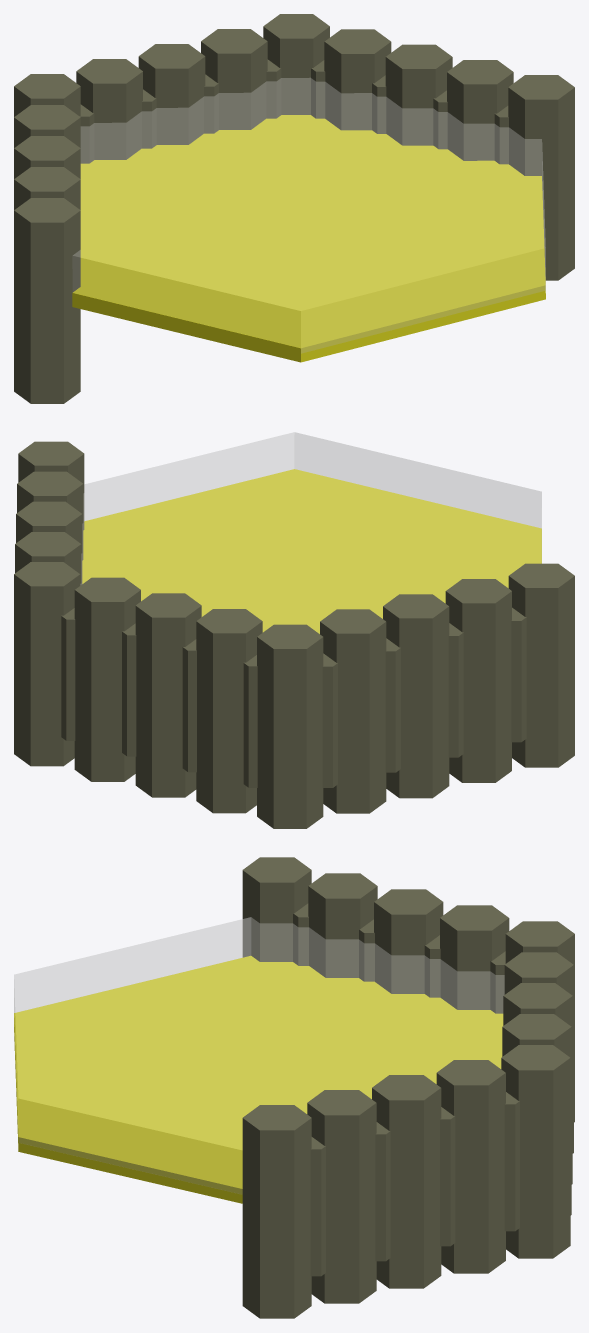
Rendered from Tatles1.fbx_Titel_Voda_3.fbx.
The picture shows the model from 3 angles, top to bottom: view 1: azimuth 30°, elevation 25°; view 2: azimuth 150°, elevation 25°; view 3: azimuth 270°, elevation 25°; orthographic projection. The views are drawn at different scales.
Visible parts, largest first — view 1: Voda.002, Dno.002, Stena_3; view 2: Stena_3, Voda.002, Dno.002; view 3: Stena_3, Voda.002, Dno.002.
Boxes of the visible parts, box(x1,y1,x2,y2) form: Voda.002: box(72, 78, 545, 353); Dno.002: box(72, 115, 545, 362); Stena_3: box(14, 14, 574, 403); Stena_3: box(14, 441, 574, 828); Voda.002: box(80, 432, 541, 633); Dno.002: box(82, 469, 541, 633); Stena_3: box(242, 857, 574, 1318); Voda.002: box(14, 917, 504, 1194); Dno.002: box(14, 956, 503, 1203).
Size of the model in its own units: 20.05 by 6.47 by 17.24.
